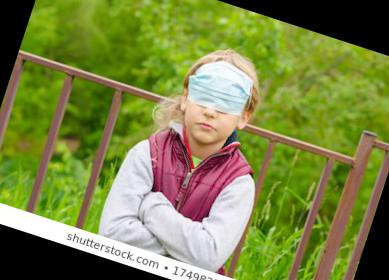mask_weared_incorrect: (173, 61, 254, 151)
